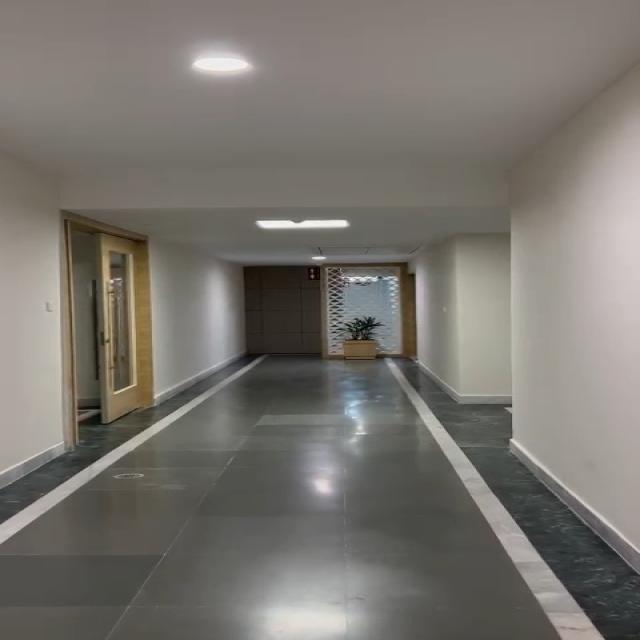door: (67, 213, 149, 427), (262, 269, 424, 362)
floor: (195, 379, 492, 640)
furniture: (336, 314, 392, 363)
wall: (432, 21, 640, 512), (0, 0, 458, 203)
